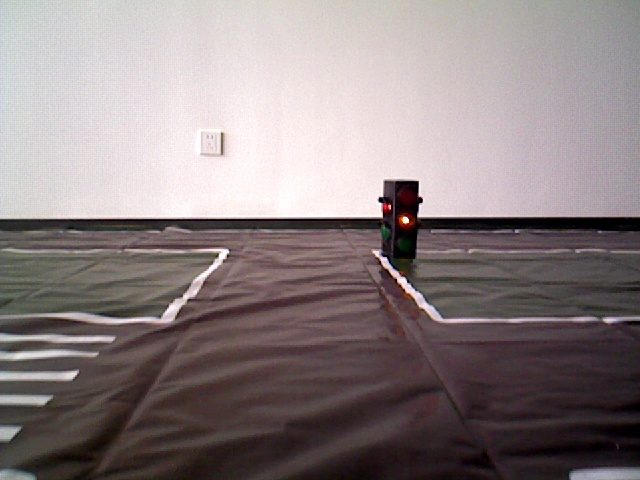yellow: (380, 178, 415, 255)
